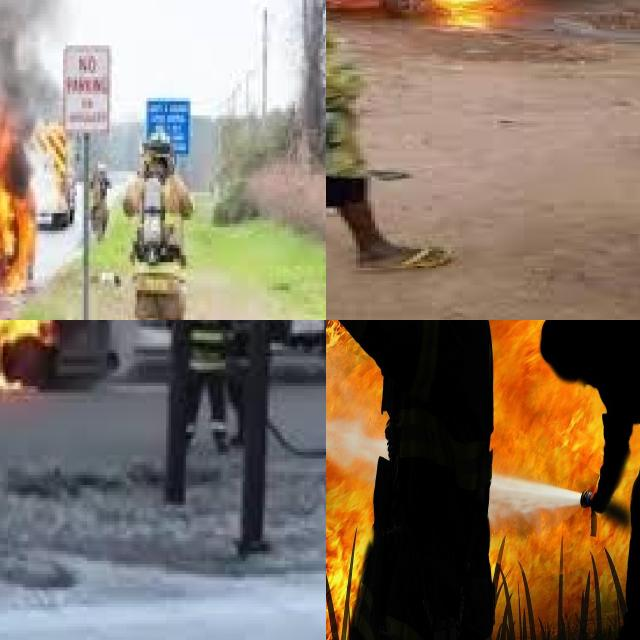fire: (326, 320, 640, 640), (0, 83, 58, 318), (424, 0, 531, 22)
